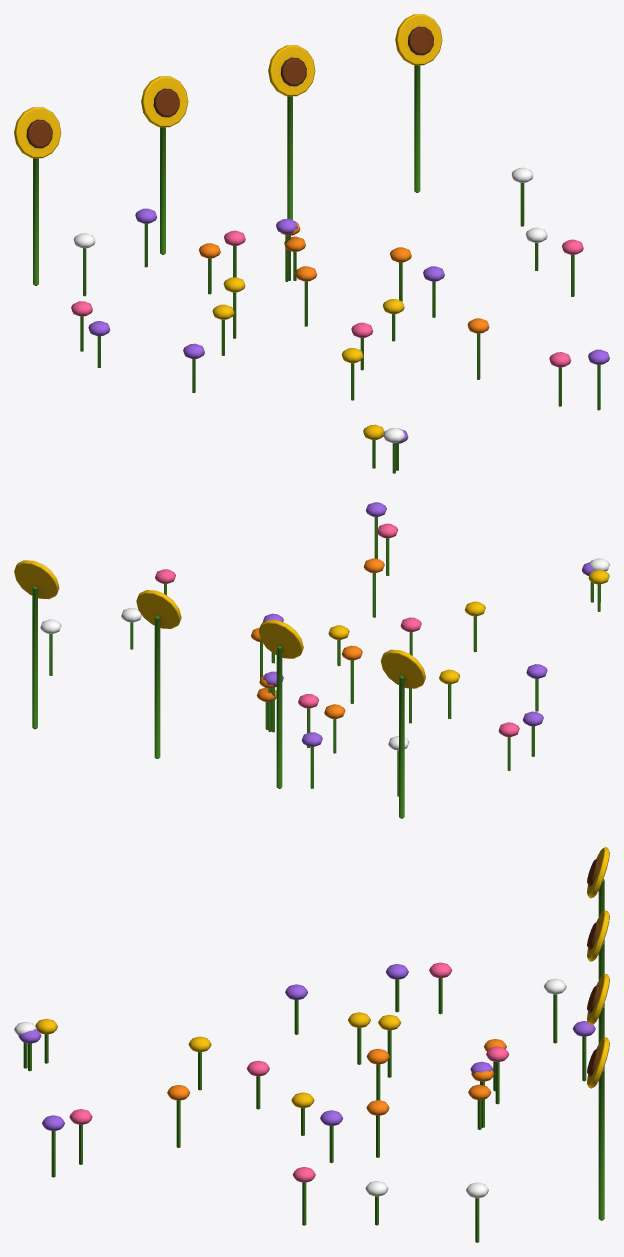
File: beehive.glb
3 renders of one model, top to bottom at view 1: azimuth 30°, elevation 25°; view 2: azimuth 150°, elevation 25°; view 3: azimuth 270°, elevation 25°, orthographic. The views are drawn at different scales.
Parts seen in each view (by area): view 1: beehive; view 2: beehive; view 3: beehive.
Boxes of the visible parts, left/top/right/bottom form: beehive: left=14, top=14, right=609, bottom=473; beehive: left=14, top=502, right=609, bottom=818; beehive: left=14, top=847, right=609, bottom=1242.
Bounding box in the file's own units: 1.71 × 0.5965 × 1.79.
1 material, 1 textured.
